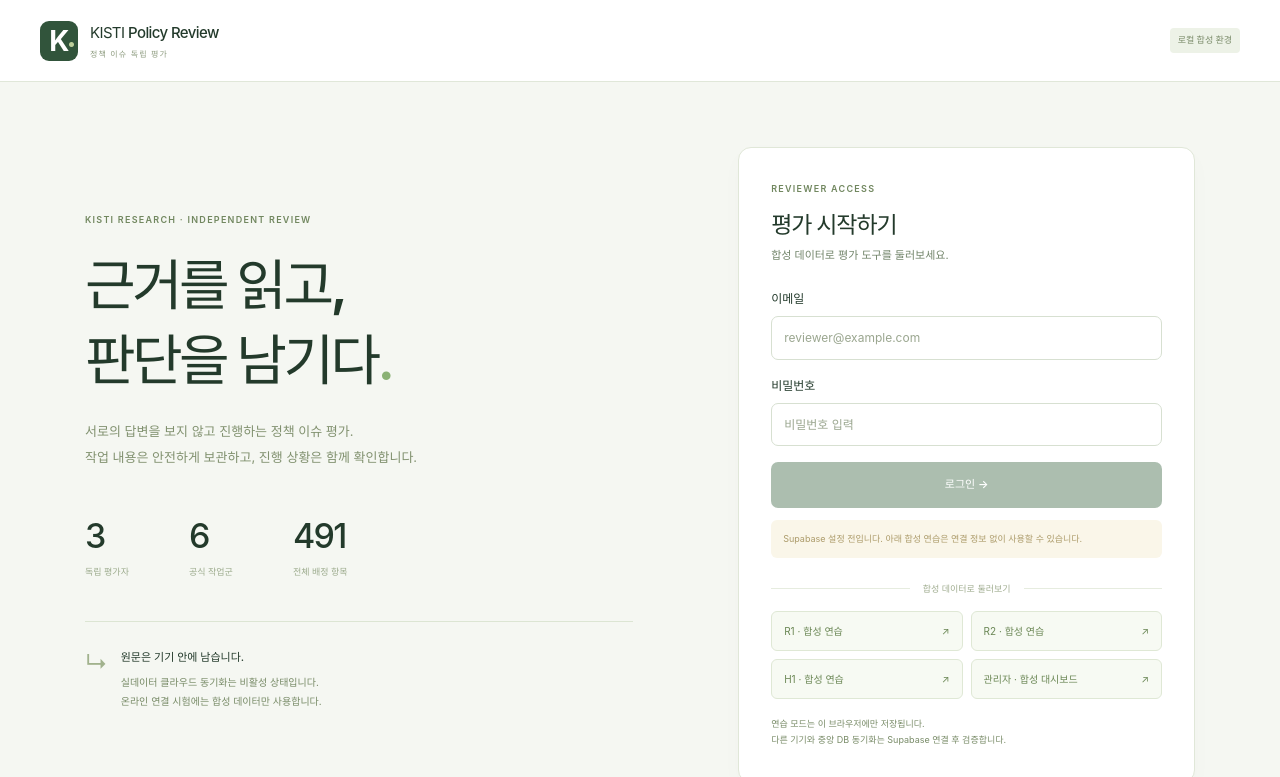
real UI with local synthetic persistence › flushes an edit immediately before switching assignments and restores it after reopening
This screenshot has width=1280, height=777.
Step 1. Click the button "R1 · 합성 연습 ↗" → click(867, 631), box [771,611,963,651]
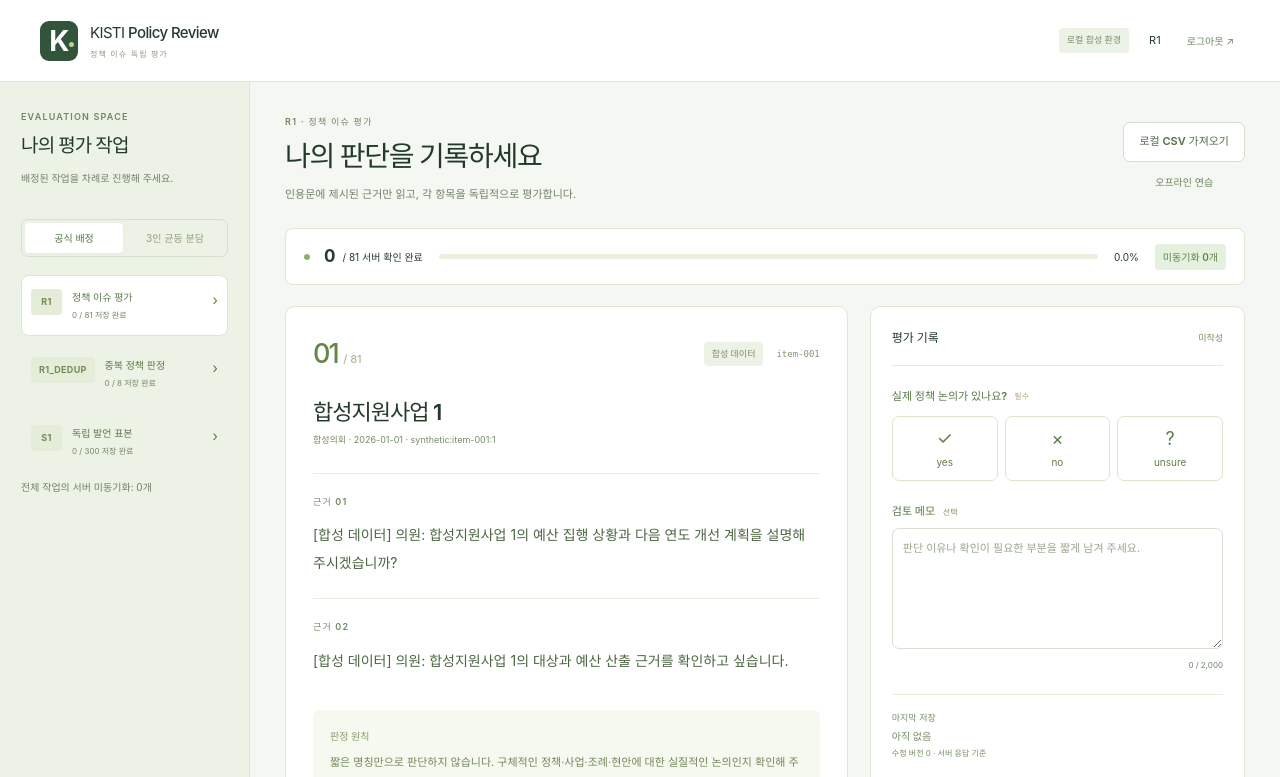
Now the heading "합성지원사업 1" is shown, box [313,398,441,424]
Step 2. Click the button "× no" → click(1057, 448), box [1004,416,1110,480]
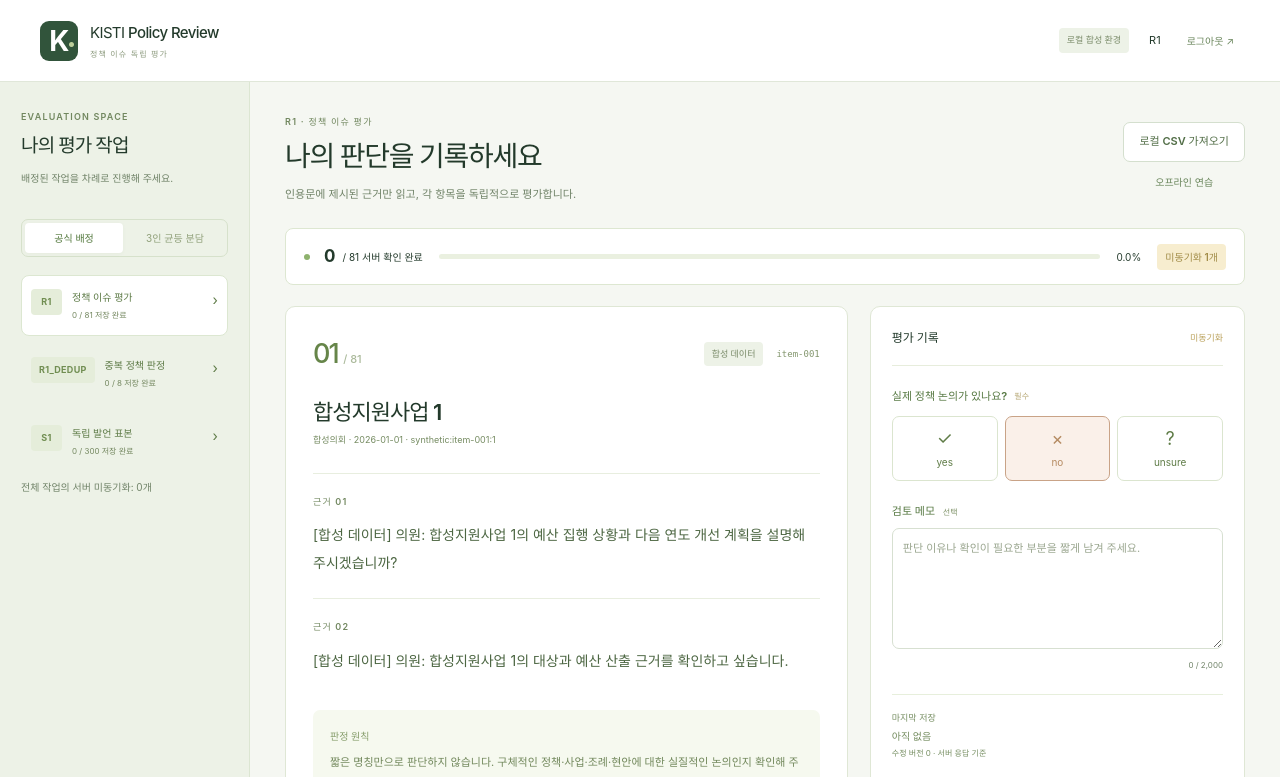
Step 3. Type "이동 전 보관 확인" into the text box labelled "검토 메모 선택 0 / 2,000" → (1057, 589), box [892,528,1223,649]
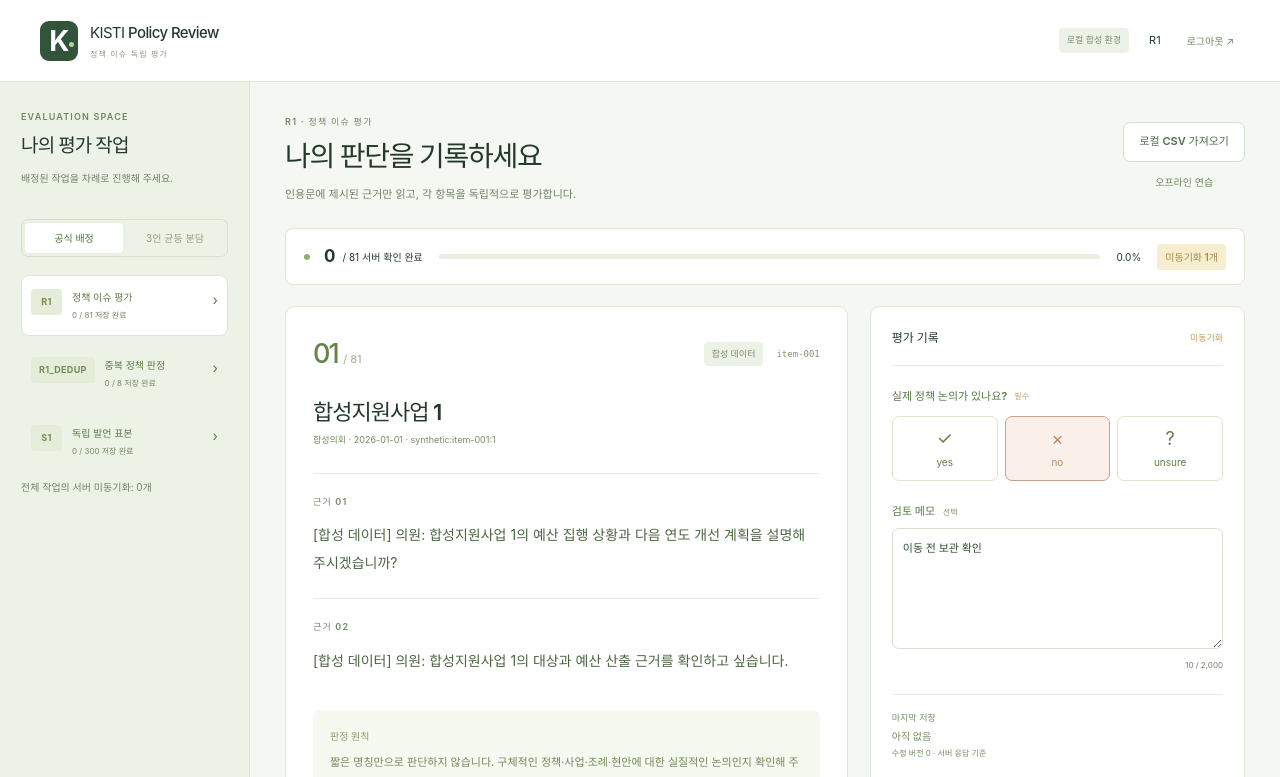
Step 4. Click the button "R1_DEDUP 중복 정책 판정 0 / 8 저장 완료 ›" → click(124, 373), box [21,343,228,404]
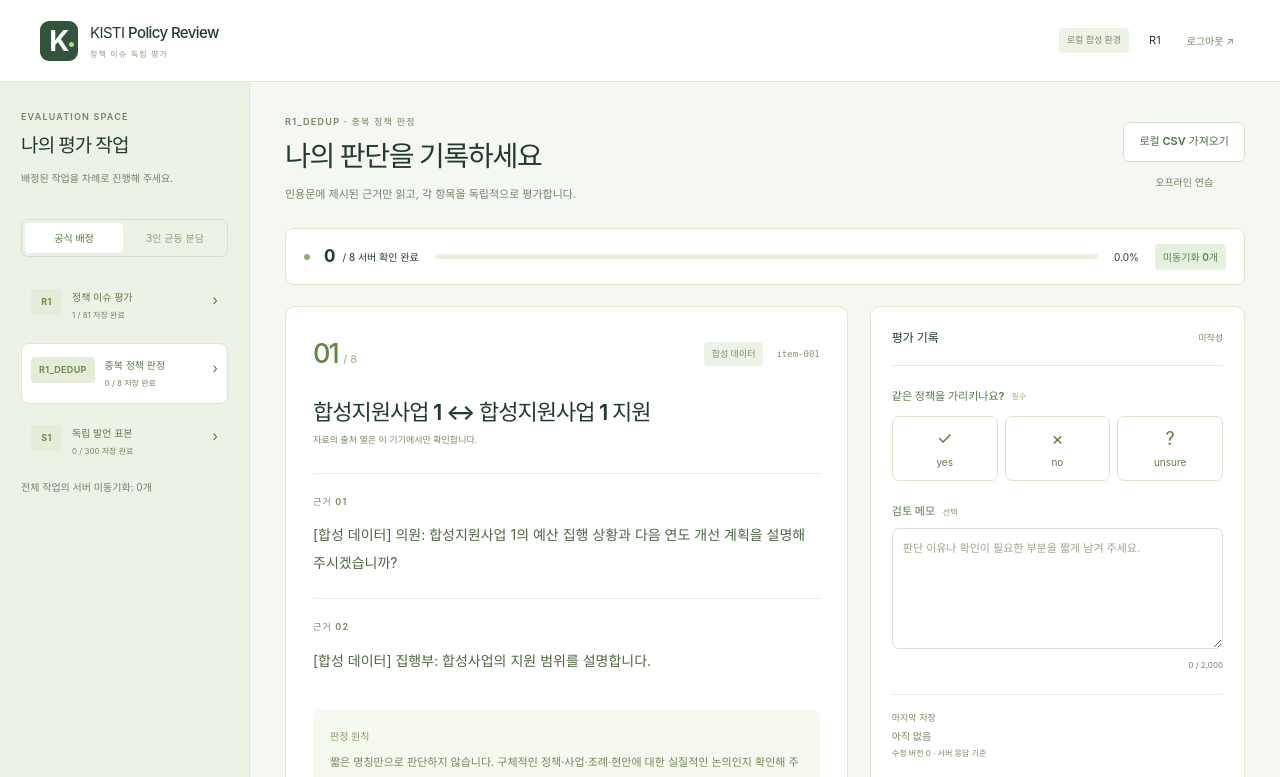
Now the text "같은 정책을 가리키나요?" is shown, box [892,388,1004,402]
Step 5. Click the button "R1 정책 이슈 평가 1 / 81 저장 완료 ›" → click(124, 305), box [21,275,228,336]
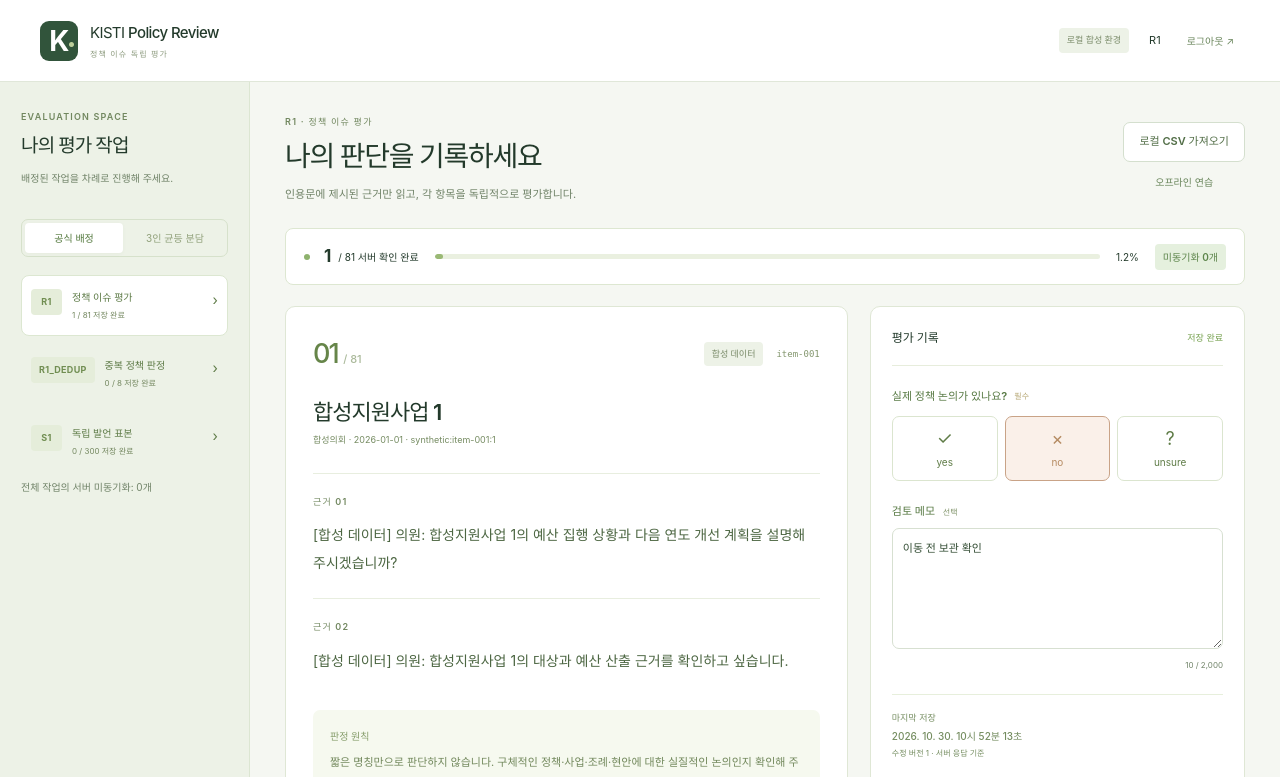
Now the button "R1 정책 이슈 평가 1 / 81 저장 완료 ›" is shown, box [21,275,228,336]
Now the text box showing "이동 전 보관 확인" is shown, box [892,528,1223,649]
